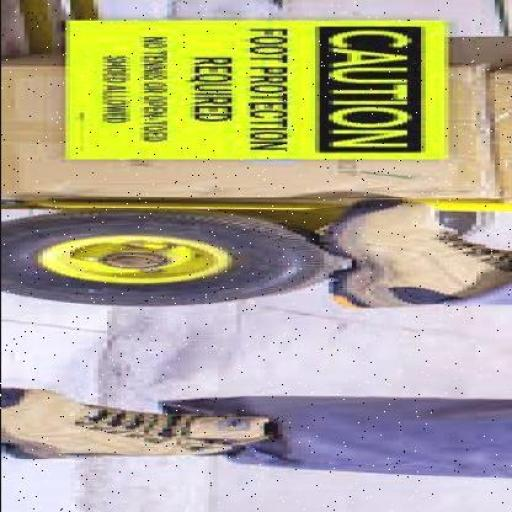safety_shoe: (319, 199, 509, 314), (1, 388, 254, 460)
